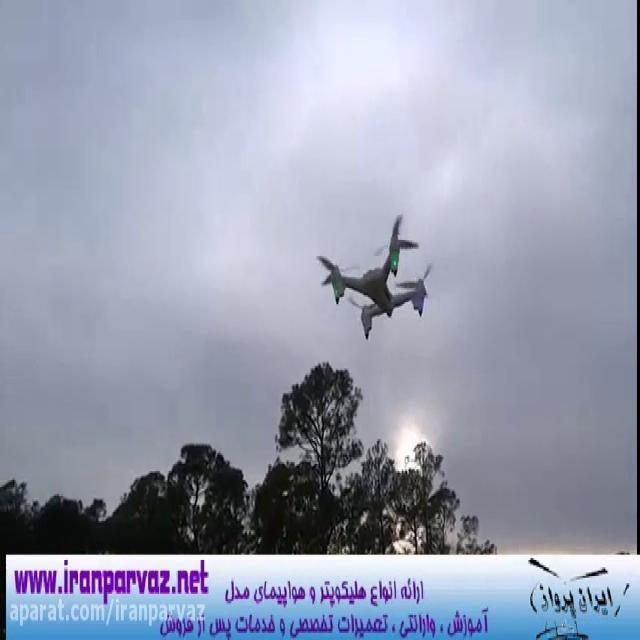drone: (313, 208, 435, 340)
